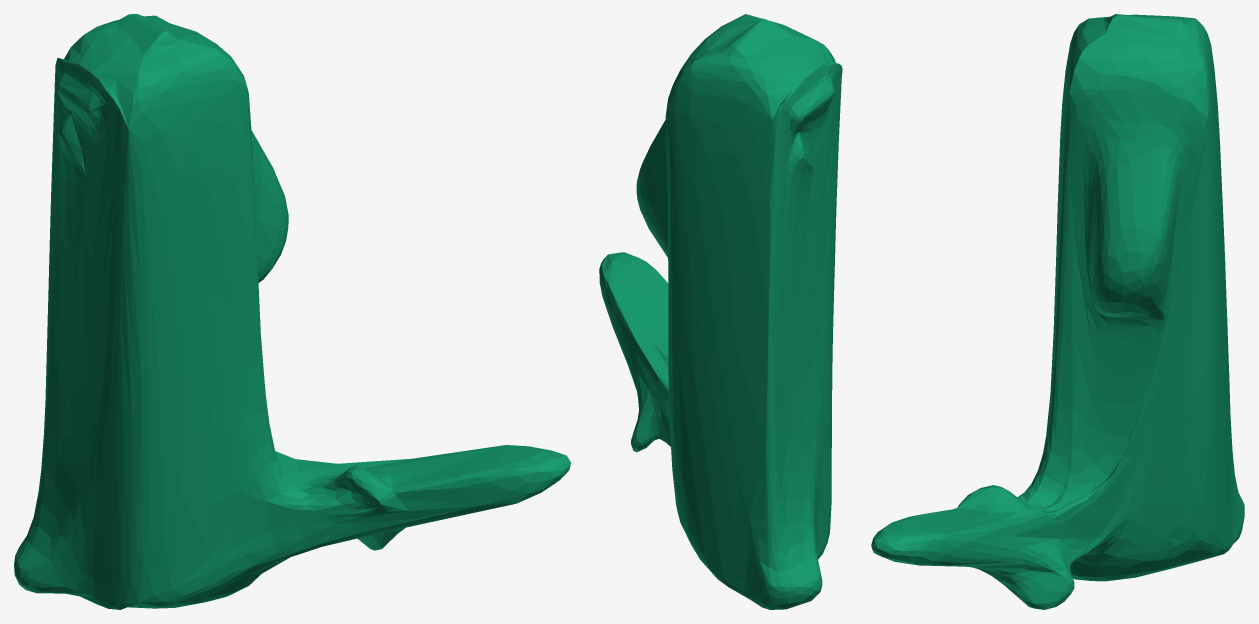
3 views of the same model, side by side, from view 1: azimuth 30°, elevation 25°; view 2: azimuth 150°, elevation 25°; view 3: azimuth 270°, elevation 25° (orthographic). The views are drawn at different scales.
Visible parts, largest first — view 1: 123_Cube.509; view 2: 123_Cube.509; view 3: 123_Cube.509.
Boxes of the visible parts, x1,y1,x2,y2 form: 123_Cube.509: (14, 14, 570, 609); 123_Cube.509: (599, 14, 842, 609); 123_Cube.509: (871, 14, 1244, 609).
Bounding box in the file's own units: 8.84 × 12.38 × 7.57.
